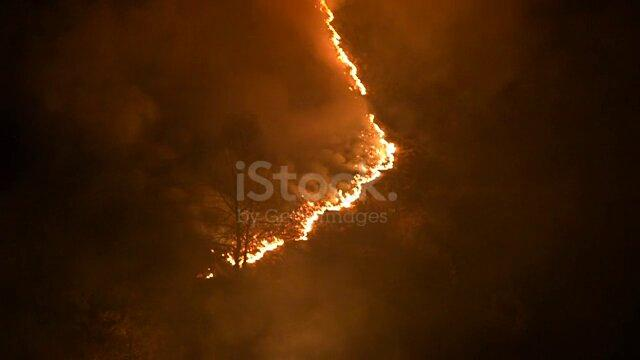fire: (215, 192, 368, 267), (310, 3, 372, 97), (344, 108, 400, 186)
